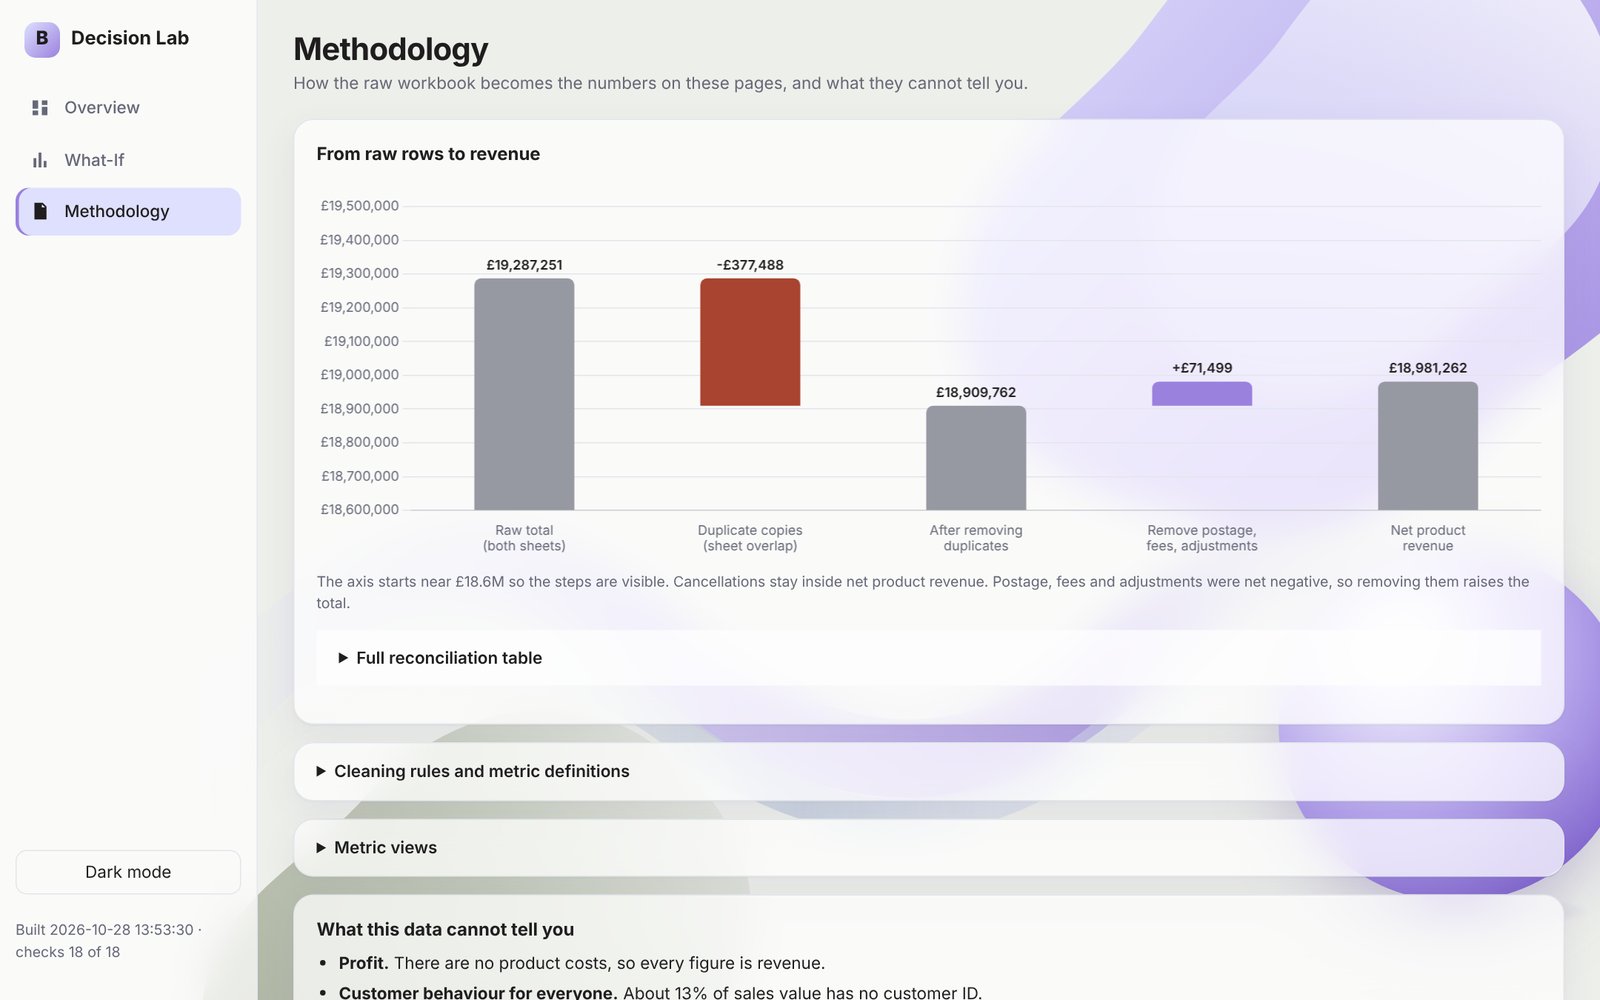

This screenshot's page, from the dashboard's own definition file:
{"tool":"powerbi","page":{"name":"Methodology","canvas":[1920,1080],"ordinal":2},"visuals":[{"type":"textbox","box":[10.3,0,1626.1,1014.8],"z":0}]}

Visuals, with their boxes on the page's 1920x1080 design canvas (x1, y1, x2, y2). These are canvas units, not pixel positions in the 1600x1000 screenshot, which may show the page scaled, cropped or inside an application window:
textbox: crop(10, 0, 1636, 1015)
